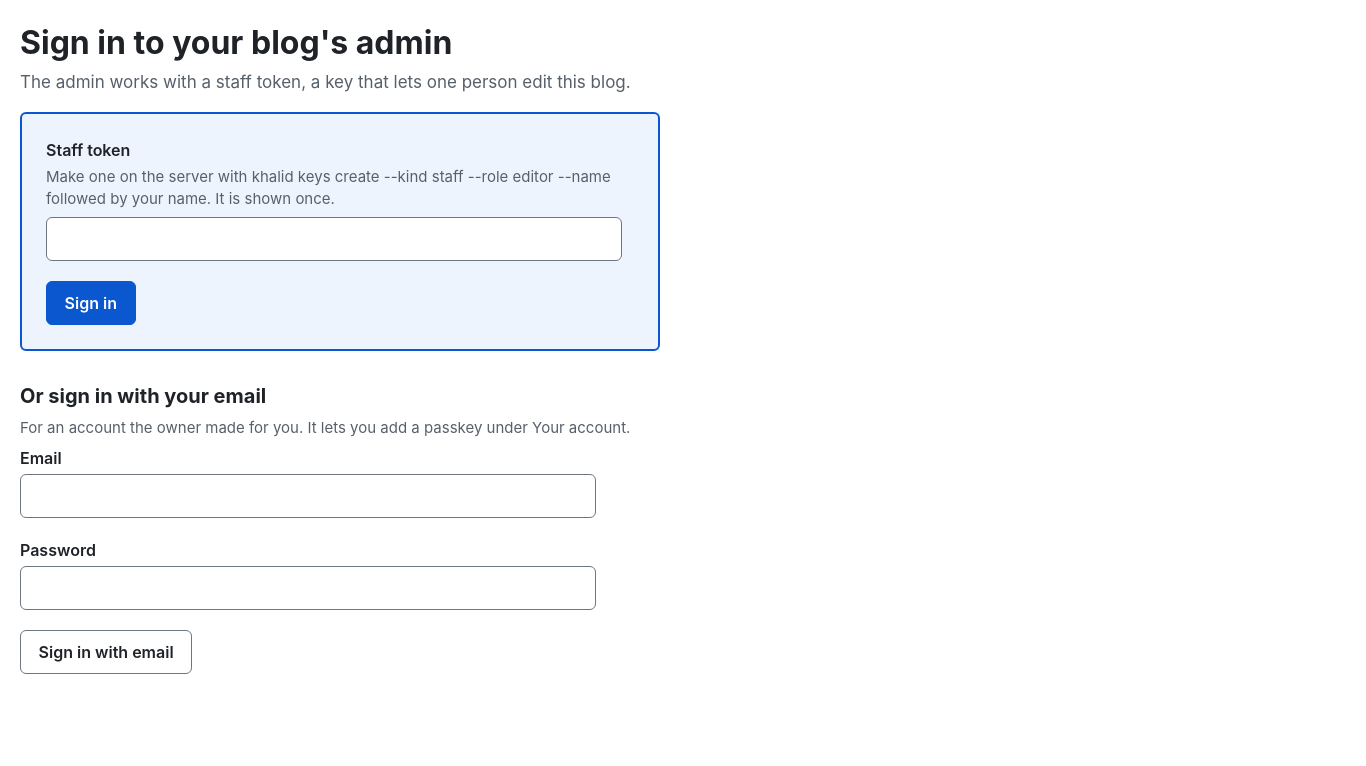
Scenario: signing in › signs in with an email, then signs each request with the session's CSRF token
Step 1. Type "lena@example.com" into the field labelled "Email" → (308, 496), box [20,474,596,518]
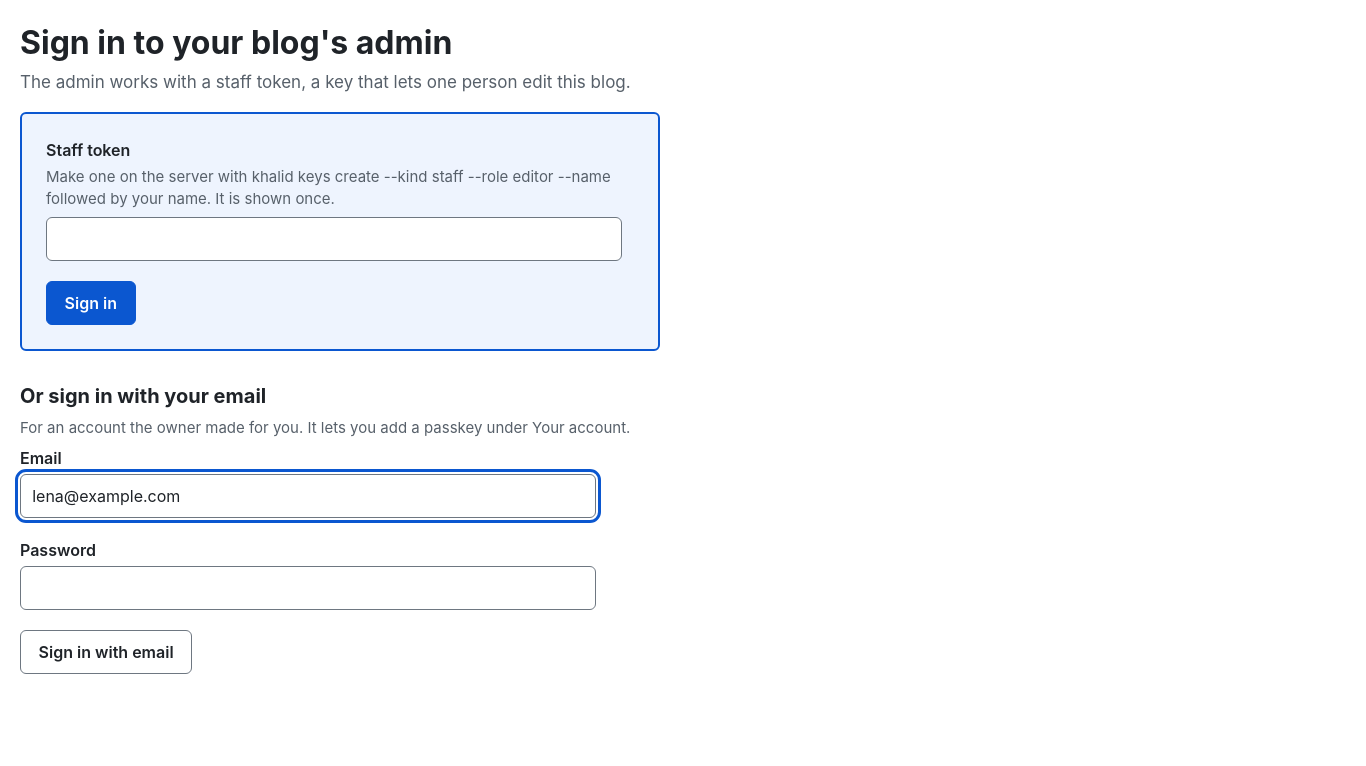
Step 2. Type "correct horse" into the password field labelled "Password" → (308, 588), box [20,566,596,610]
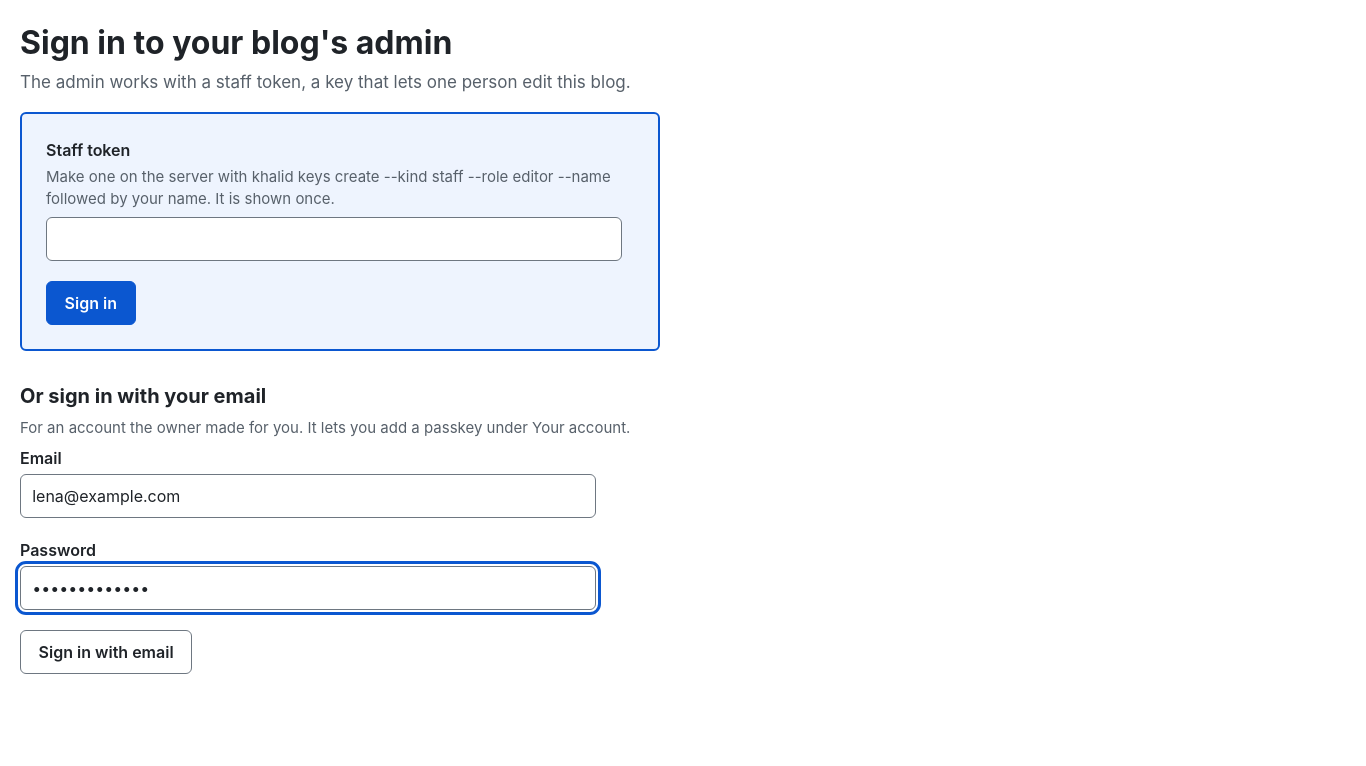
Step 3. Click the button "Sign in with email" → (106, 652), box [20,630,192,674]
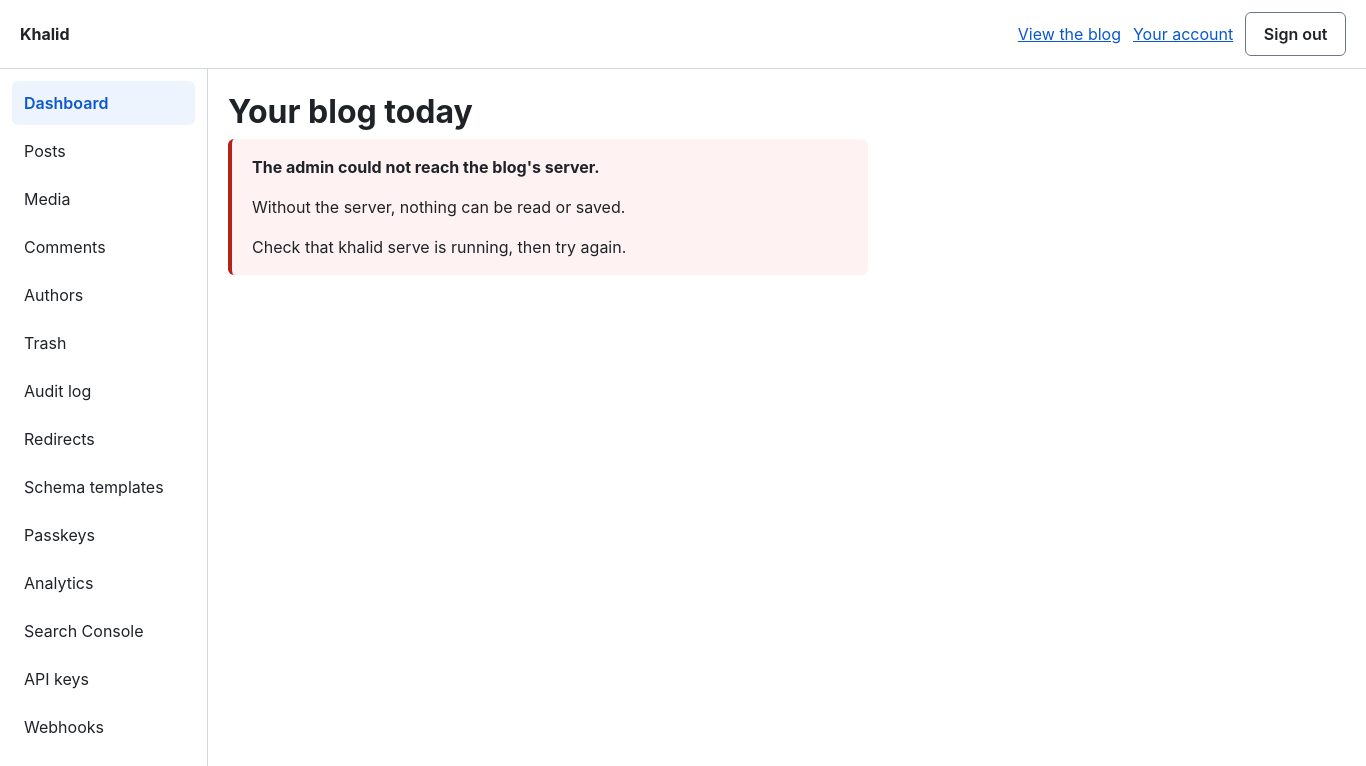
Check: the heading "Your blog today" is shown, box [228,92,473,131]
